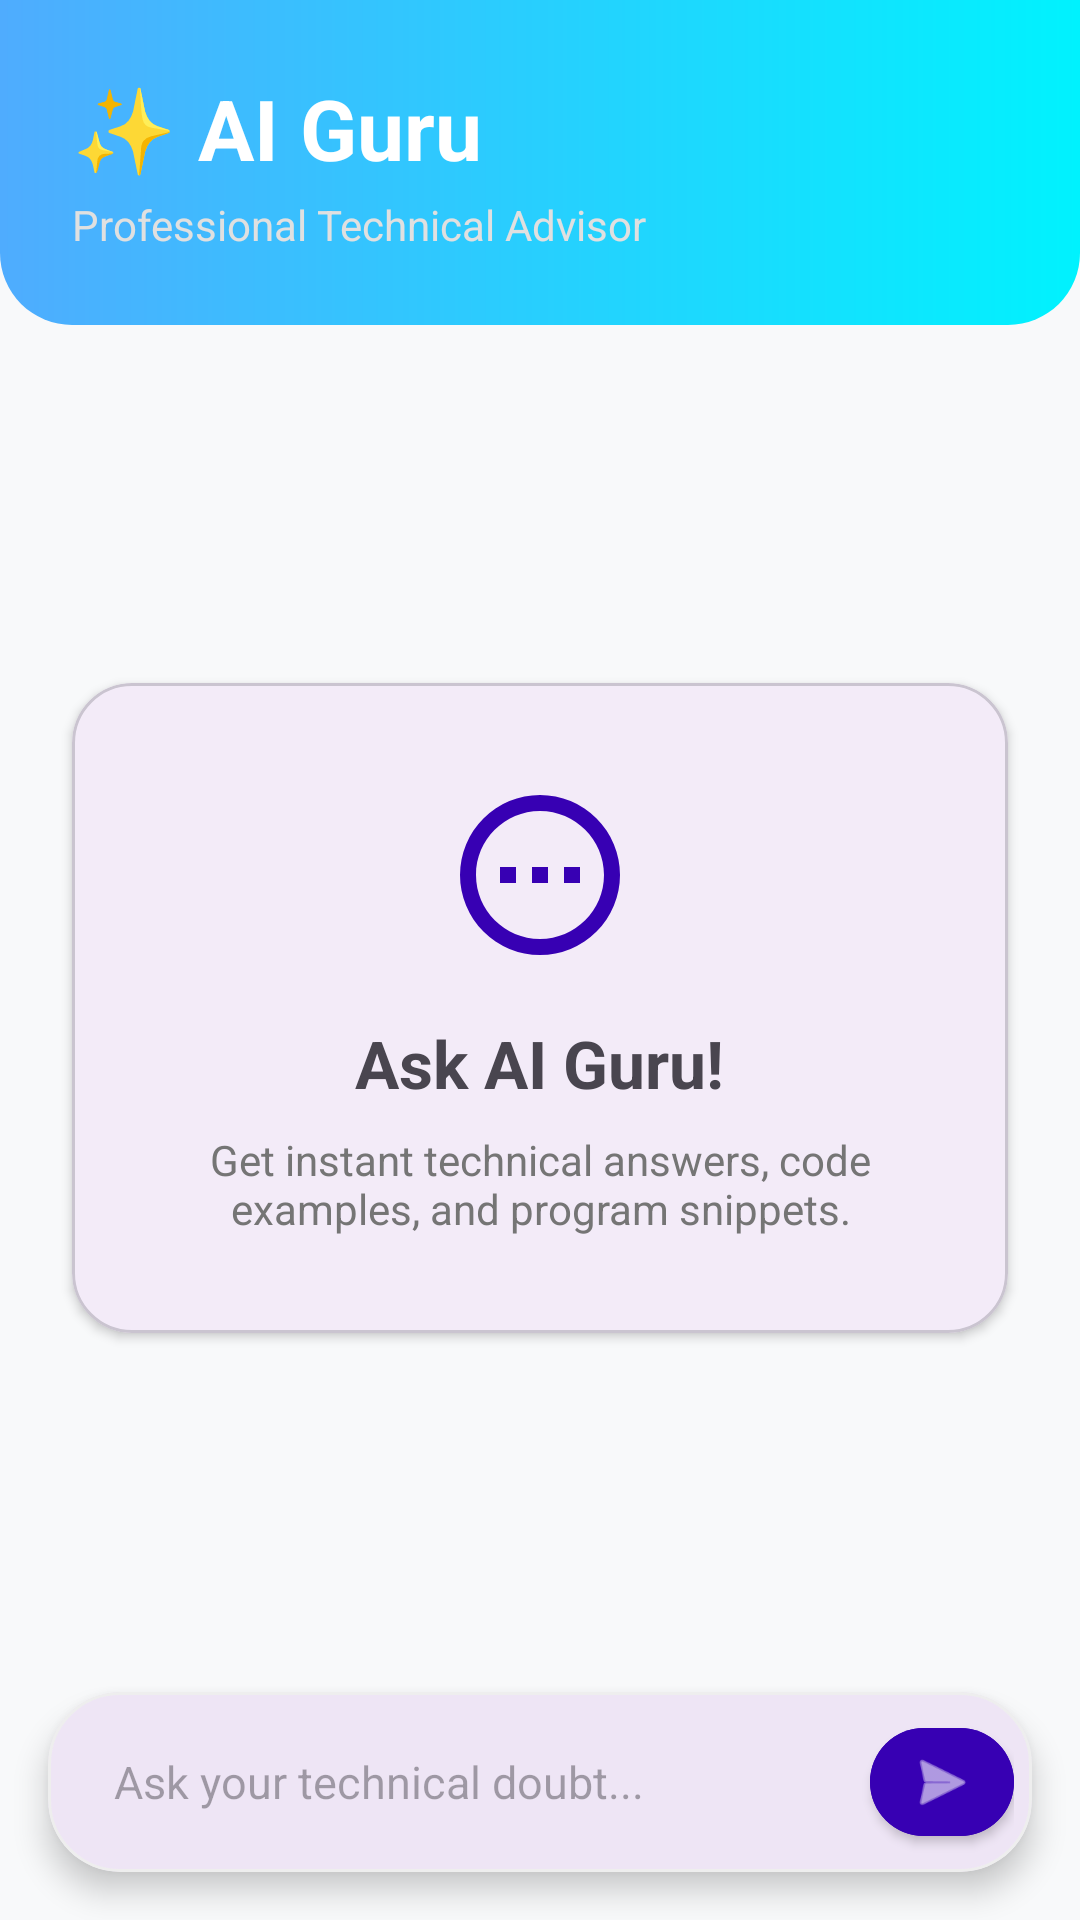

Where icons sit on this 1080×1920 app screen, as (x1, y1, x2, y2):
send: (870, 1728, 1014, 1841)
